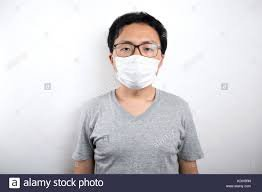mask: (101, 7, 177, 91)
